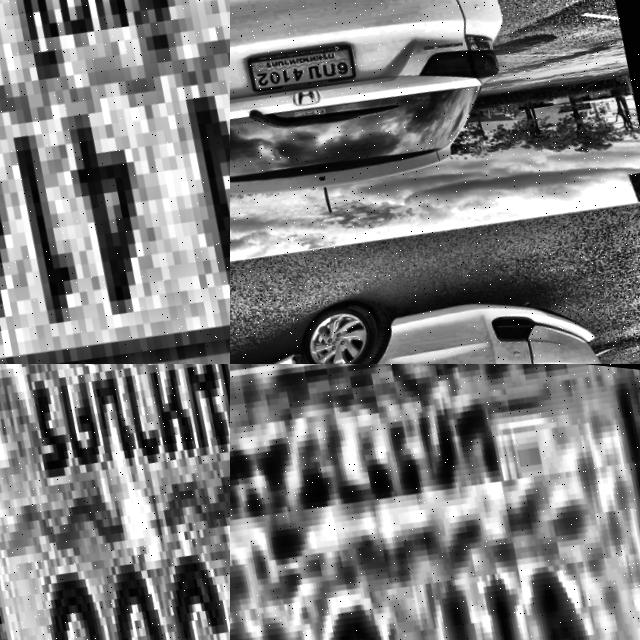license-plate: (230, 364, 640, 640), (0, 0, 230, 364), (0, 364, 230, 640), (239, 22, 360, 102), (573, 356, 607, 364)
